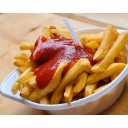frenchfries: (16, 27, 126, 91)
